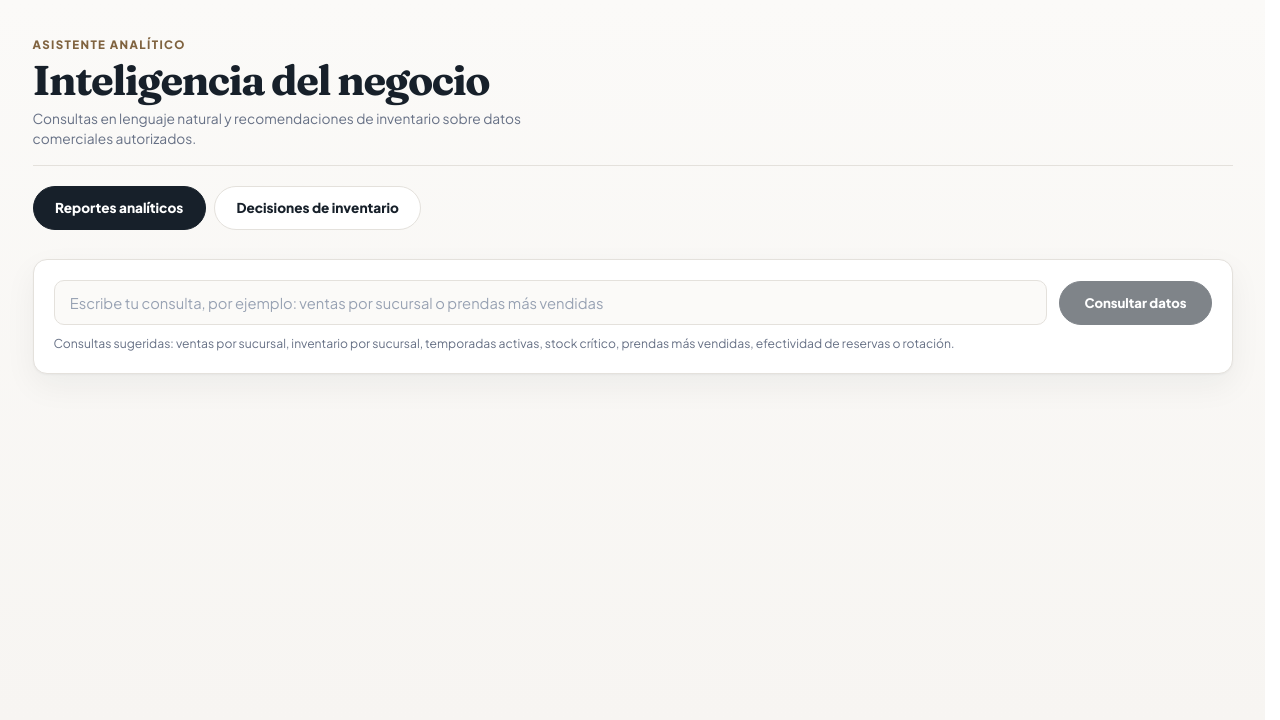
Test: InteligenciaComponent (Visualizaciones de IA y decisiones de inventario) › cambia entre pestañas de reportes y decisiones de inventario
Click the tab "Decisiones de inventario": coordinates (318, 208) [214,186,421,230]
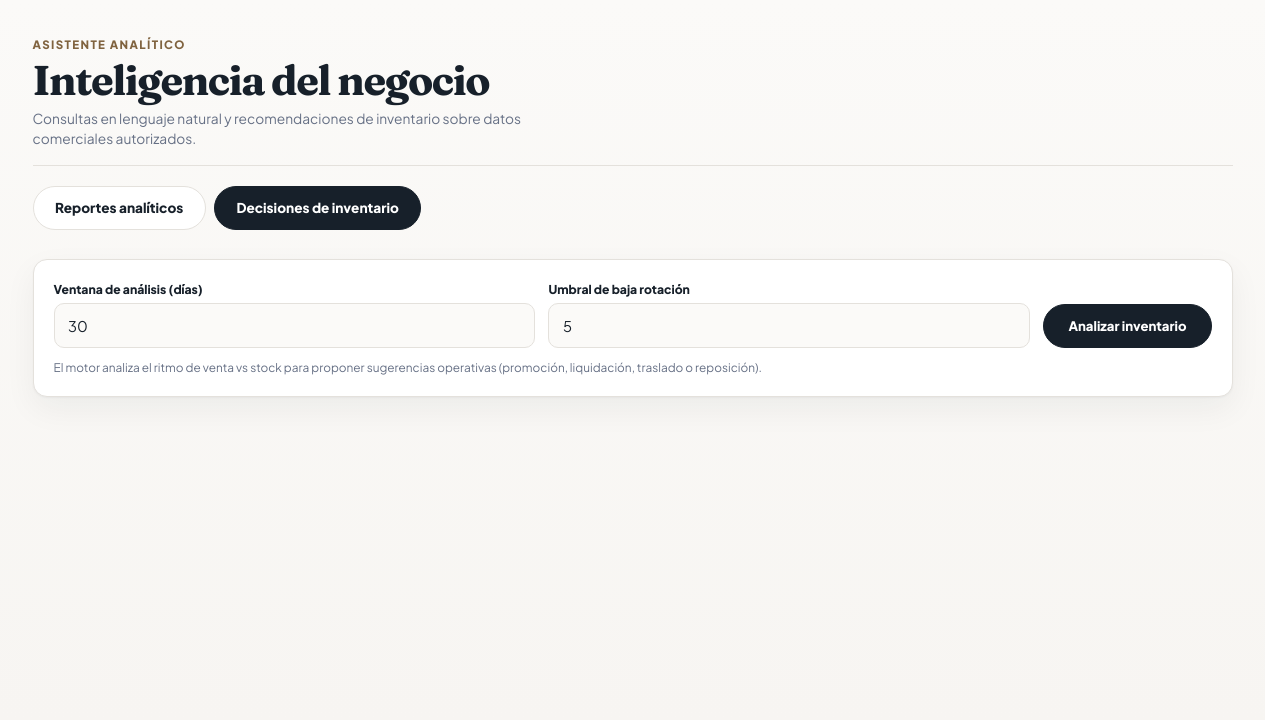
Result: the button with class "btn-analizar" reads "Analizar inventario" at [1043,304,1212,348]
